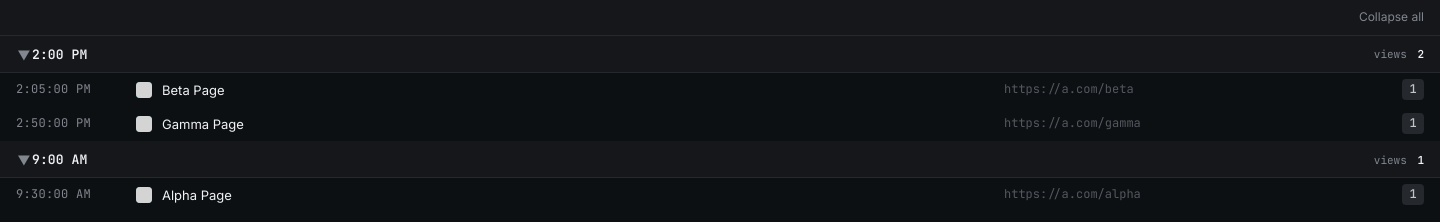
it: DayView — collapse per hour › hides an hour's rows when its chevron is clicked
Click the button named "Collapse hour". click: x=24, y=55
box: 15,47 -> 33,63
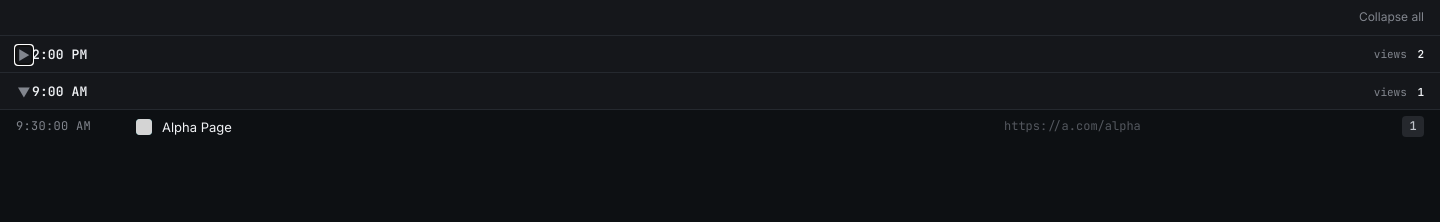
expect the text "Alpha Page" is shown: met, box 162,118 -> 232,136
expect the link "Beta Page" is gone: met
expect the link "Gamma Page" is gone: met
